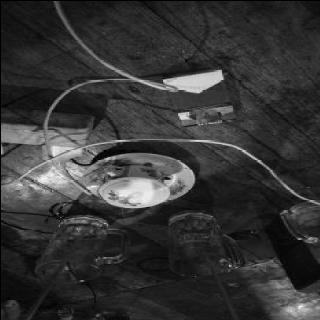objects: (160, 66, 234, 126)
